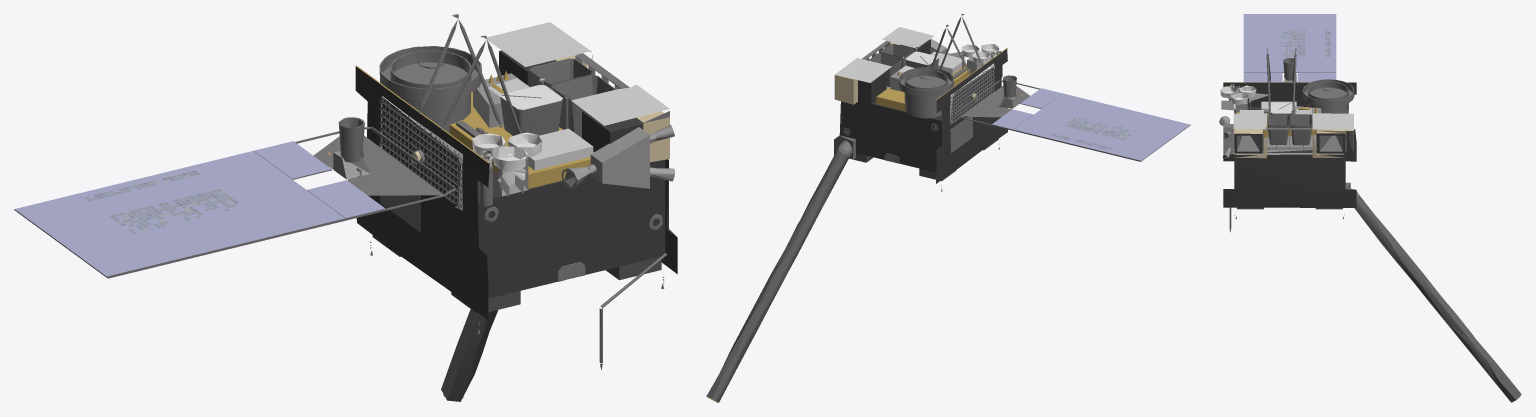
3 renders of one model, left to right at view 1: azimuth 30°, elevation 25°; view 2: azimuth 150°, elevation 25°; view 3: azimuth 270°, elevation 25°, orthographic. The views are drawn at different scales.
Visible parts, largest first — view 1: Layer_0; view 2: Layer_0; view 3: Layer_0.
Part boxes in pixels (x1,y1,x2,y2): Layer_0: (14,14,677,401); Layer_0: (706,14,1190,402); Layer_0: (1219,14,1521,402).
Size of the model in its own units: 0.1344 by 0.1219 by 0.1113.
